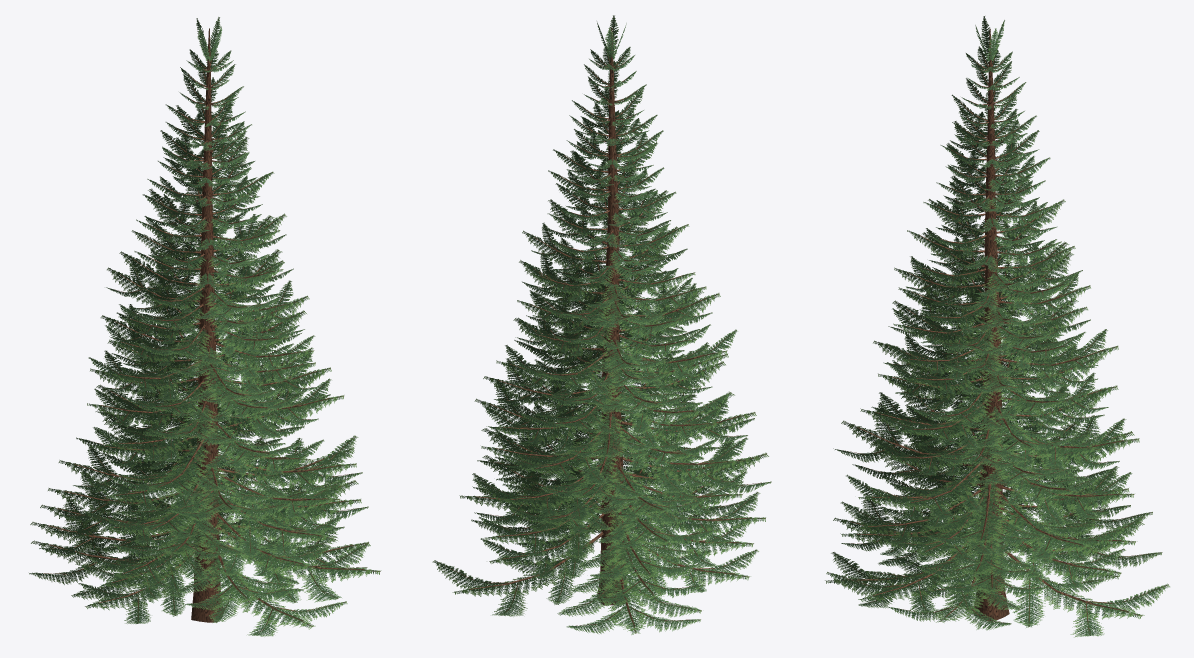
Rendered from pine-tree.glb.
The picture shows the model from 3 angles, left to right: view 1: azimuth 30°, elevation 25°; view 2: azimuth 150°, elevation 25°; view 3: azimuth 270°, elevation 25°; orthographic projection. The views are drawn at different scales.
Visible parts, largest first — view 1: Needles, Trunk; view 2: Needles, Trunk; view 3: Needles, Trunk.
Part boxes in pixels (<box>): Needles: <box>29,17,381,636</box>; Trunk: <box>43,28,364,632</box>; Needles: <box>432,15,771,634</box>; Trunk: <box>445,27,761,626</box>; Needles: <box>825,16,1169,637</box>; Trunk: <box>839,28,1156,632</box>.
Bounding box in the file's own units: 7.95 × 15.69 × 8.71.
Materials: 2 (2 with a texture image).
